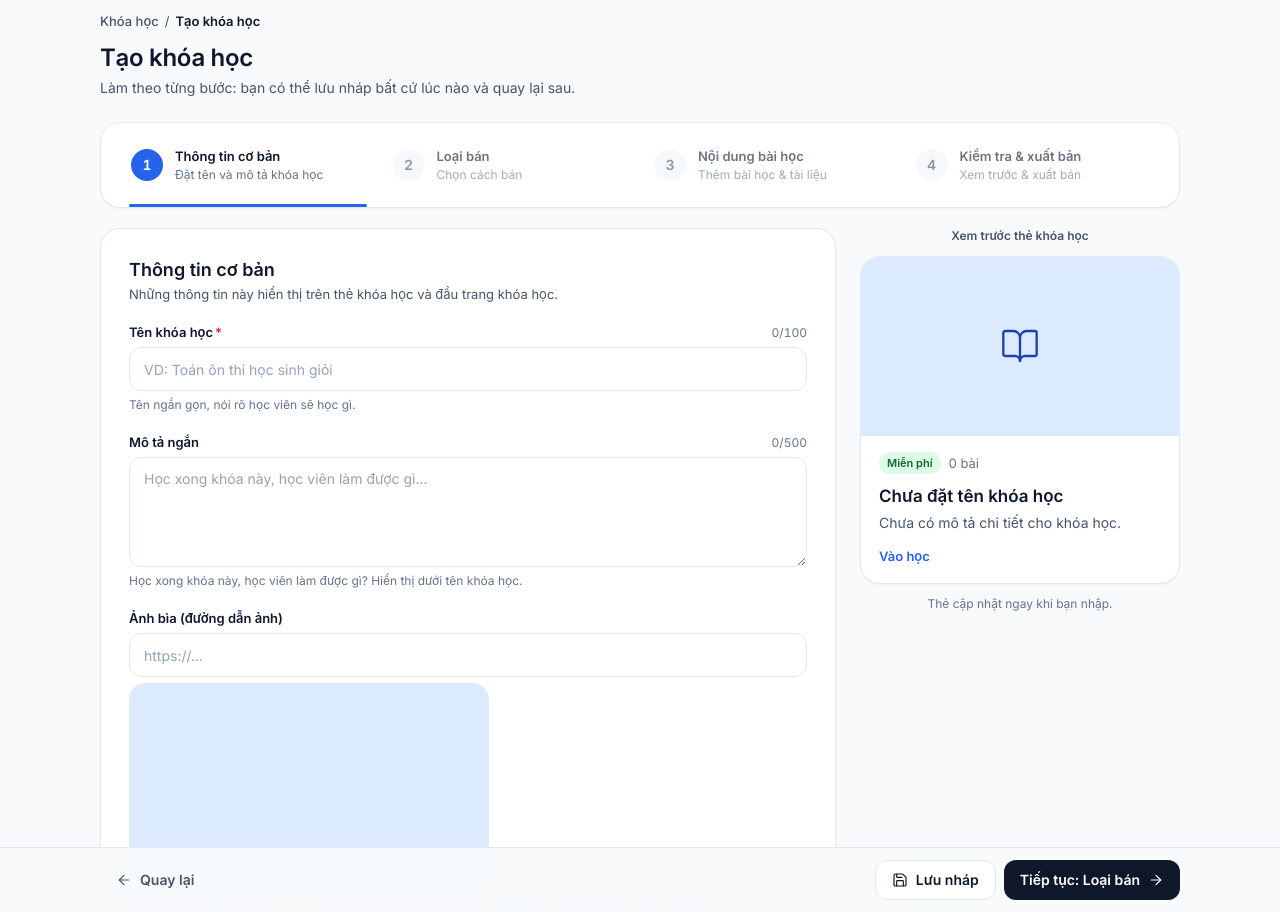
StudioCourseWizard - stepper › shows four steps with the first current and the others locked until the previous ones are valid
Expected: the button "2 Loại bán Chọn cách bán" is disabled, [386,143,632,187]
Expected: the button "3 Nội dung bài học Thêm bài học & tài liệu" is disabled, [648,143,894,187]
Type "Toán 10" into the field labelled "Tên khóa học*" at (468, 369), box [129,347,807,391]
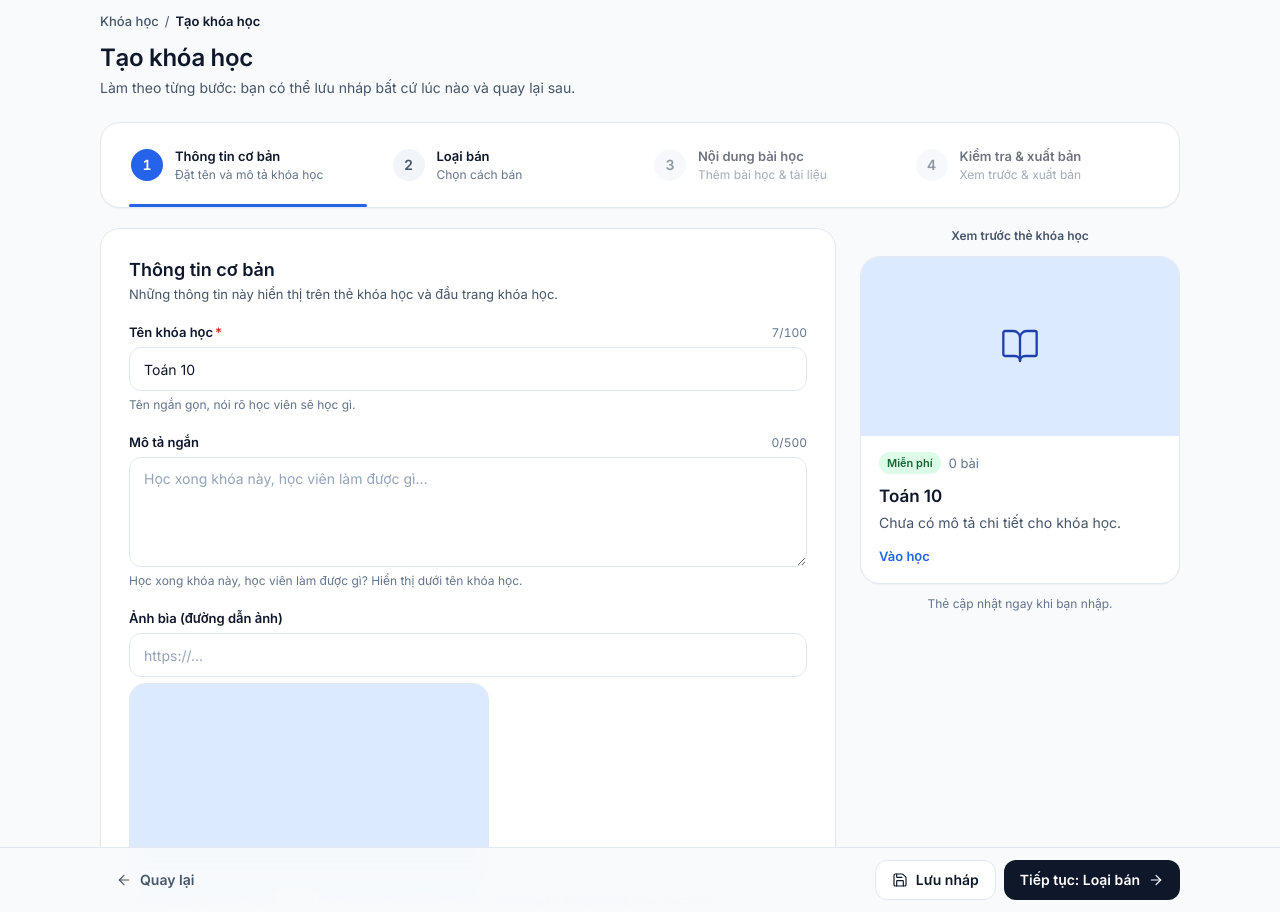
Expected: the button "3 Nội dung bài học Thêm bài học & tài liệu" is disabled, [648,143,894,187]
Result: the button "2 Loại bán Chọn cách bán" is enabled at [386,143,632,187]
